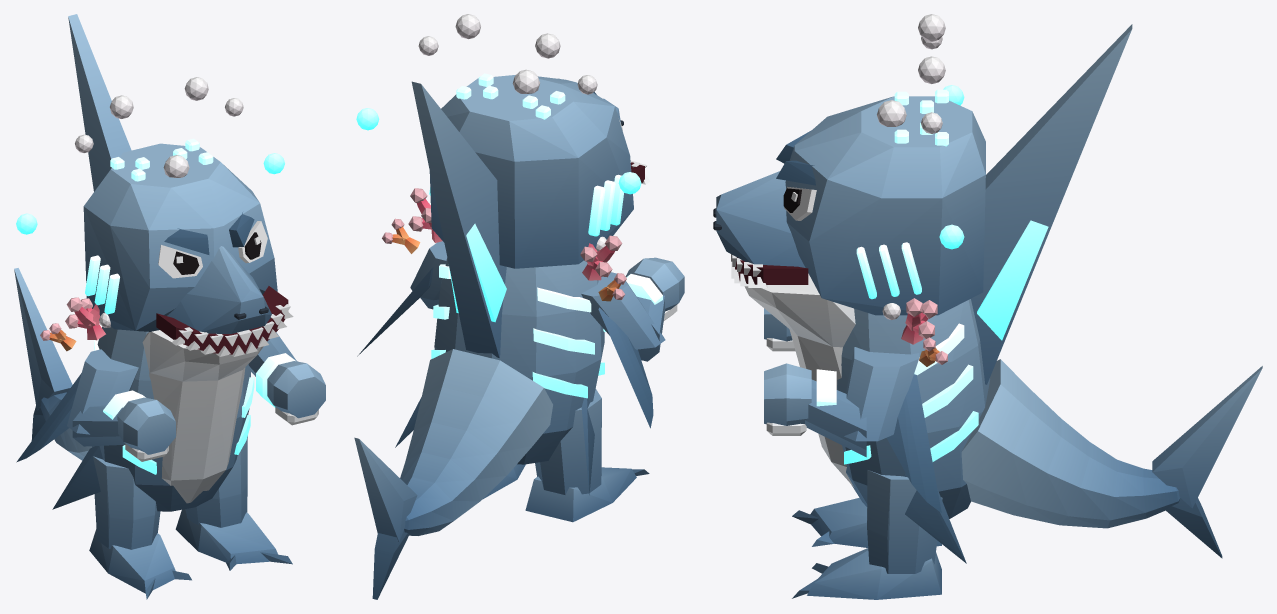
Rendered from SharkSlugger.glb.
3 renders of one model, left to right at view 1: azimuth 30°, elevation 25°; view 2: azimuth 150°, elevation 25°; view 3: azimuth 270°, elevation 25°, orthographic. The views are drawn at different scales.
Visible parts, largest first — view 1: SharkSlugger; view 2: SharkSlugger; view 3: SharkSlugger.
Part boxes in pixels (<box>): SharkSlugger: <box>14,14,325,599</box>; SharkSlugger: <box>354,14,684,599</box>; SharkSlugger: <box>713,14,1262,599</box>.
Size of the model in its own units: 0.74 by 1.17 by 1.1.
1 material, 1 textured.
